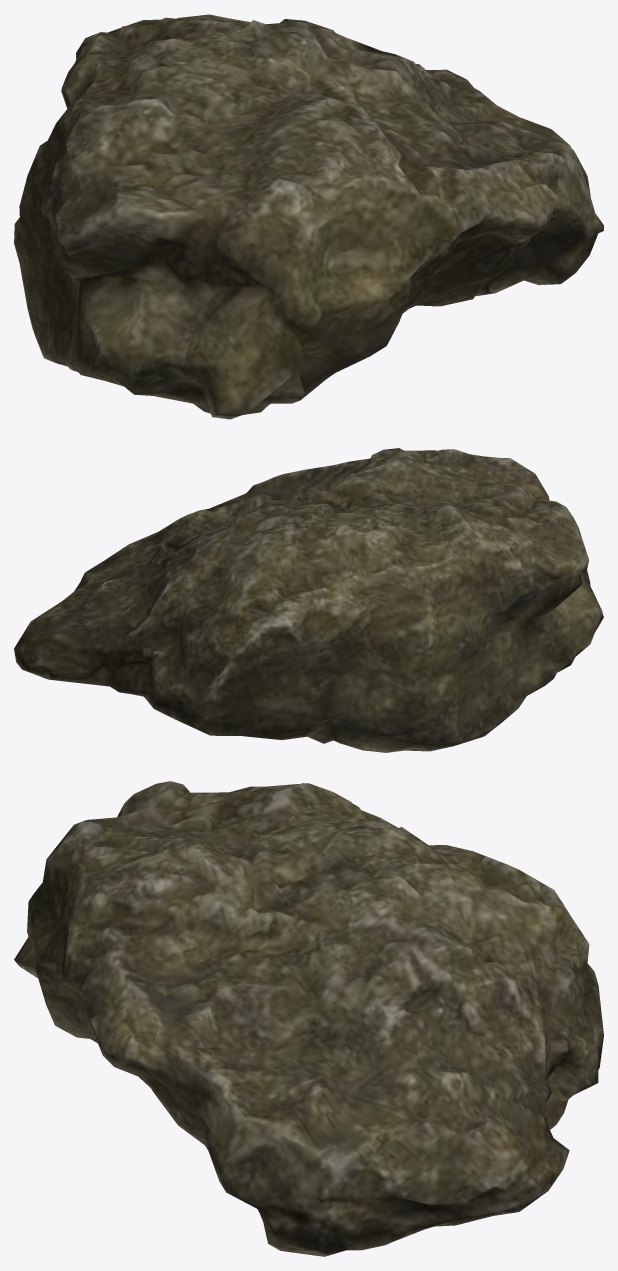
File: rock12.glb
The picture shows the model from 3 angles, top to bottom: view 1: azimuth 30°, elevation 25°; view 2: azimuth 150°, elevation 25°; view 3: azimuth 270°, elevation 25°; orthographic projection. The views are drawn at different scales.
Parts seen in each view (by area): view 1: rock_moss_set_02_rock12; view 2: rock_moss_set_02_rock12; view 3: rock_moss_set_02_rock12.
Part boxes in pixels (box(x1,y1,x2,y2)): rock_moss_set_02_rock12: box(14, 14, 603, 419); rock_moss_set_02_rock12: box(14, 448, 603, 752); rock_moss_set_02_rock12: box(14, 781, 603, 1256).
Size of the model in its own units: 1.6 by 0.7455 by 1.46.
Materials: 1 (1 with a texture image).
